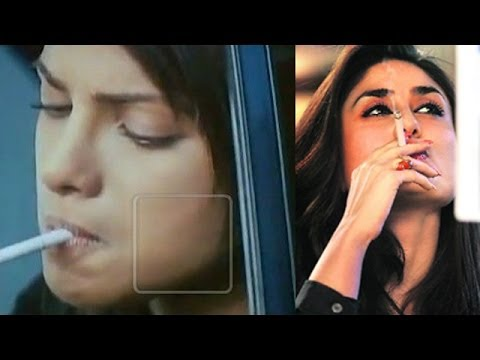cigarette: (1, 224, 84, 275), (371, 105, 432, 162)
